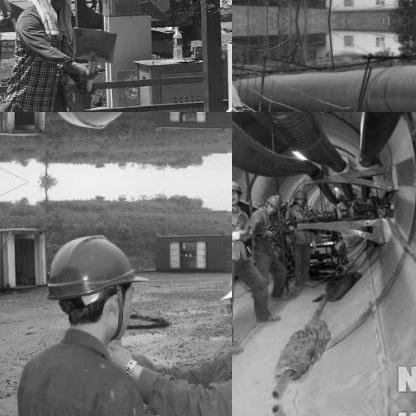Helmet: (32, 222, 152, 338), (31, 112, 153, 140), (211, 242, 231, 346), (262, 190, 282, 214), (232, 177, 243, 205), (293, 186, 307, 204)
